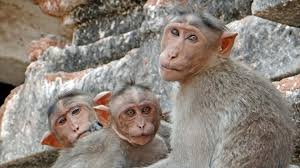monkey: (127, 5, 291, 152), (97, 68, 161, 162), (52, 85, 99, 152)
